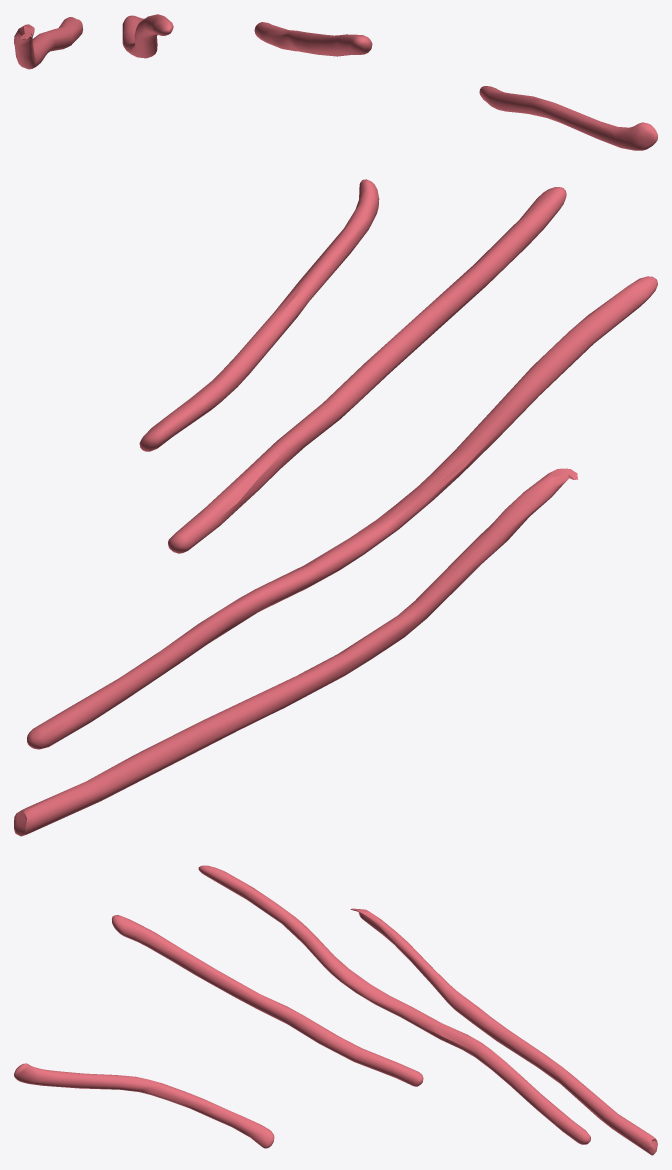
The model's file is fma70922_fj2174.glb.
The picture shows the model from 3 angles, top to bottom: view 1: azimuth 30°, elevation 25°; view 2: azimuth 150°, elevation 25°; view 3: azimuth 270°, elevation 25°; orthographic projection. The views are drawn at different scales.
Parts seen in each view (by area): view 1: FMA70922_FJ2174; view 2: FMA70922_FJ2174; view 3: FMA70922_FJ2174.
Boxes of the visible parts, x1,y1,x2,y2 form: FMA70922_FJ2174: [14, 14, 657, 150]; FMA70922_FJ2174: [14, 179, 657, 836]; FMA70922_FJ2174: [14, 865, 657, 1155].
Size of the model in its own units: 0.034 by 0.0222 by 0.0612.
